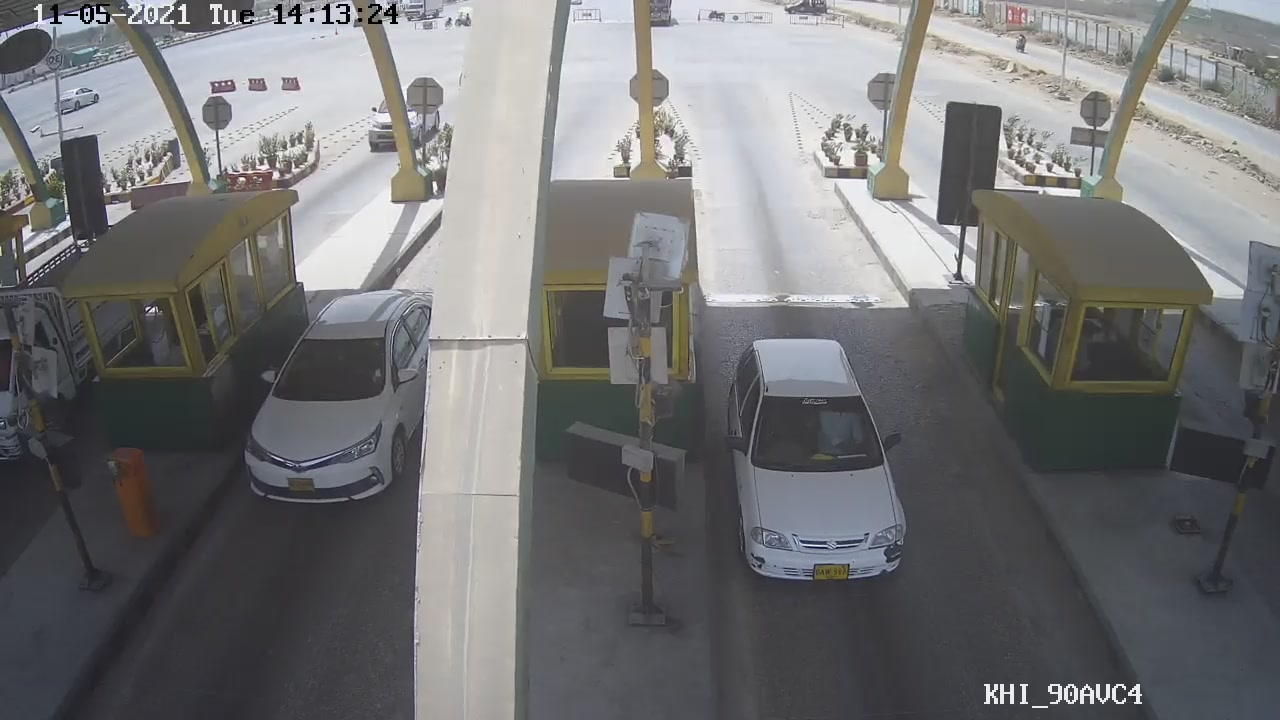F1: (728, 337, 920, 590)
